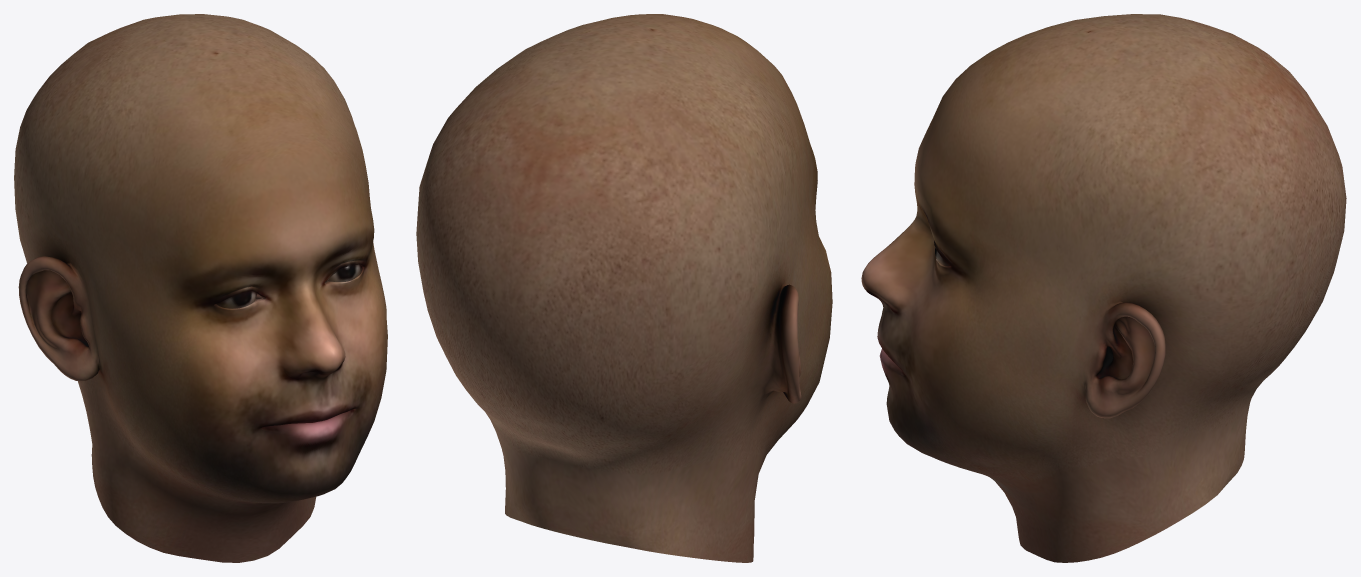
The model's file is model_amrik.fbx.
3 renders of one model, left to right at view 1: azimuth 30°, elevation 25°; view 2: azimuth 150°, elevation 25°; view 3: azimuth 270°, elevation 25°, orthographic. The views are drawn at different scales.
Parts seen in each view (by area): view 1: Head; view 2: Head; view 3: Head.
Boxes of the visible parts, x1,y1,x2,y2 form: Head: [14, 14, 387, 562]; Head: [416, 14, 832, 562]; Head: [861, 14, 1346, 562].
Size of the model in its own units: 0.1952 by 0.269 by 0.2328.
